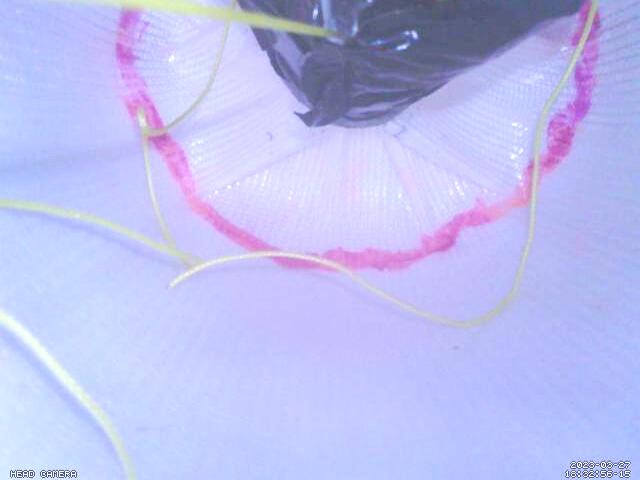head: (114, 3, 605, 273)
